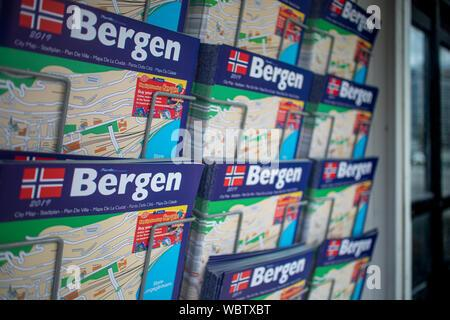cardboard: (0, 67, 69, 151)
paper: (272, 0, 413, 299), (183, 0, 312, 298), (0, 154, 203, 299)
